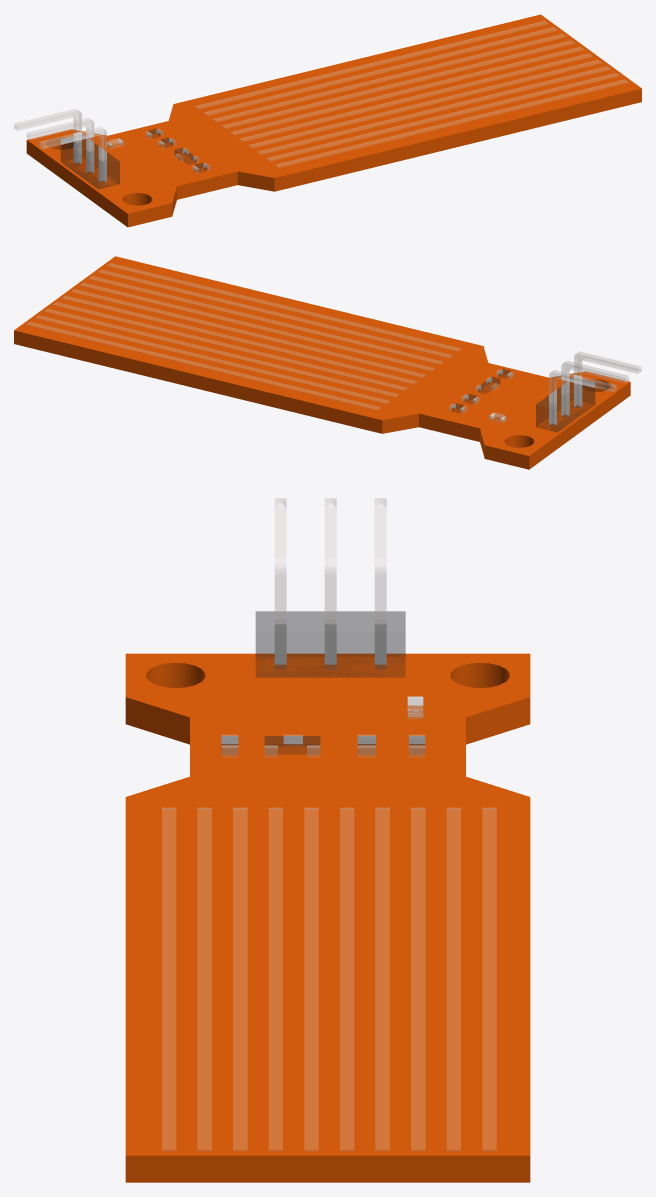
File: 10. WATER SENSOR.gltf
3 renders of one model, top to bottom at view 1: azimuth 30°, elevation 25°; view 2: azimuth 150°, elevation 25°; view 3: azimuth 270°, elevation 25°, orthographic. The views are drawn at different scales.
Visible parts, largest first — view 1: Body25; view 2: Body25; view 3: Body25.
Part boxes in pixels (bbox=[...]): Body25: bbox=[14, 14, 641, 227]; Body25: bbox=[14, 256, 641, 469]; Body25: bbox=[125, 498, 530, 1182].
Size of the model in its own units: 0.0901 by 0.0111 by 0.028.
